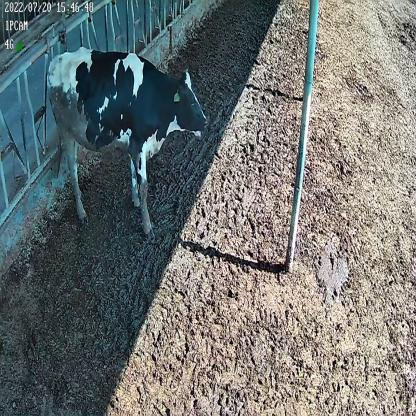cow: (47, 44, 208, 235)
